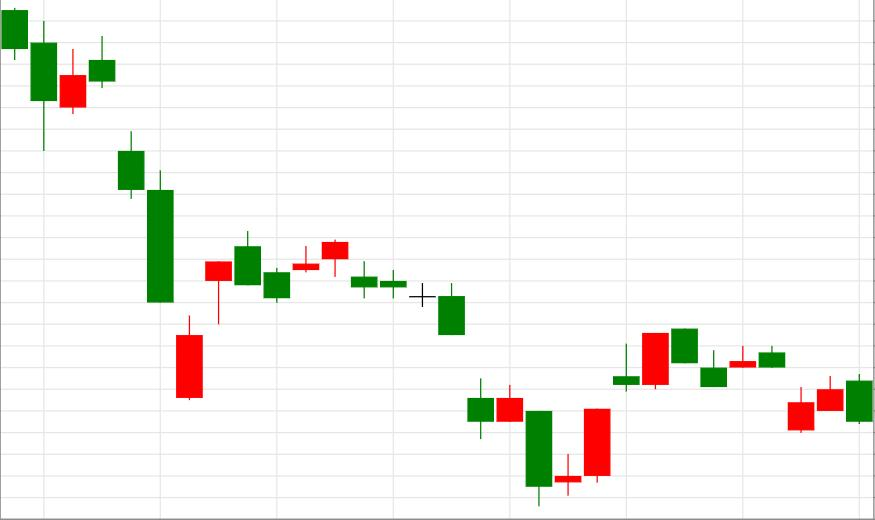morning_star_rise: (351, 260, 612, 508)
